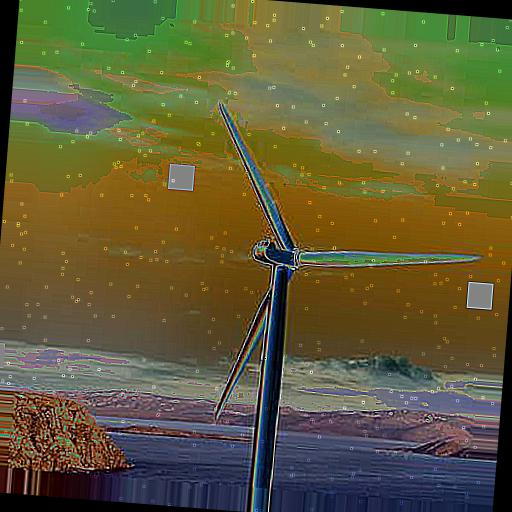wind turbine: (216, 103, 482, 502)
